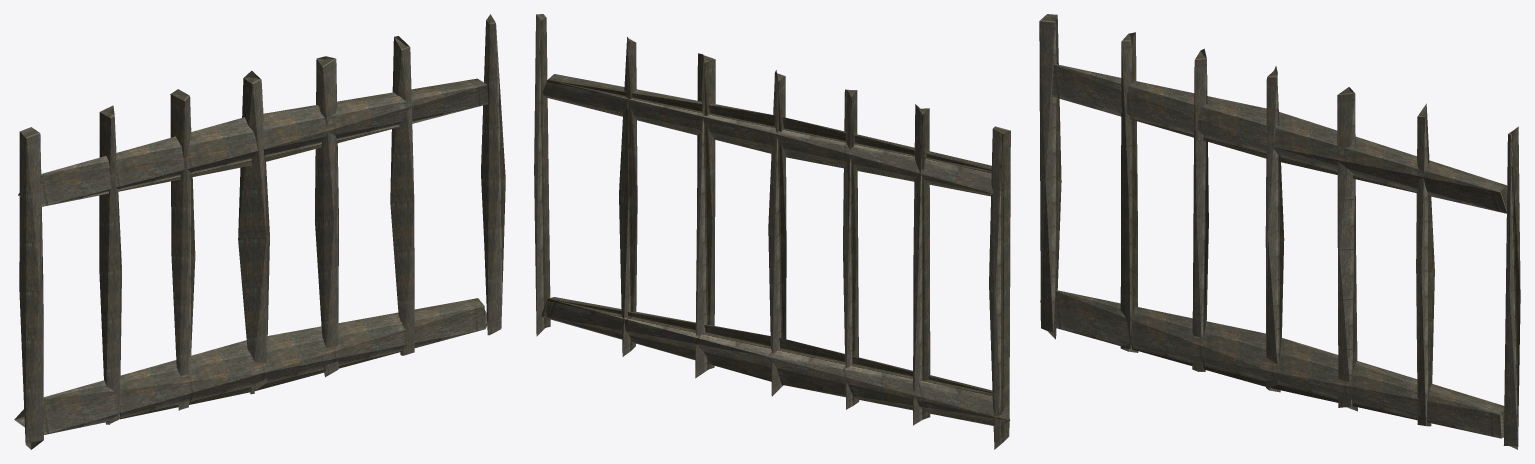
Rendered from fence3.glb.
3 renders of one model, left to right at view 1: azimuth 30°, elevation 25°; view 2: azimuth 150°, elevation 25°; view 3: azimuth 330°, elevation 25°, orthographic.
Parts seen in each view (by area): view 1: Cylinder; view 2: Cylinder; view 3: Cylinder.
Part boxes in pixels (x1,y1,x2,y2): Cylinder: [14, 14, 505, 449]; Cylinder: [534, 14, 1010, 449]; Cylinder: [1039, 14, 1520, 449].
Bounding box in the file's own units: 9.62 × 6.2 × 0.6209.
Materials: 1 (1 with a texture image).
